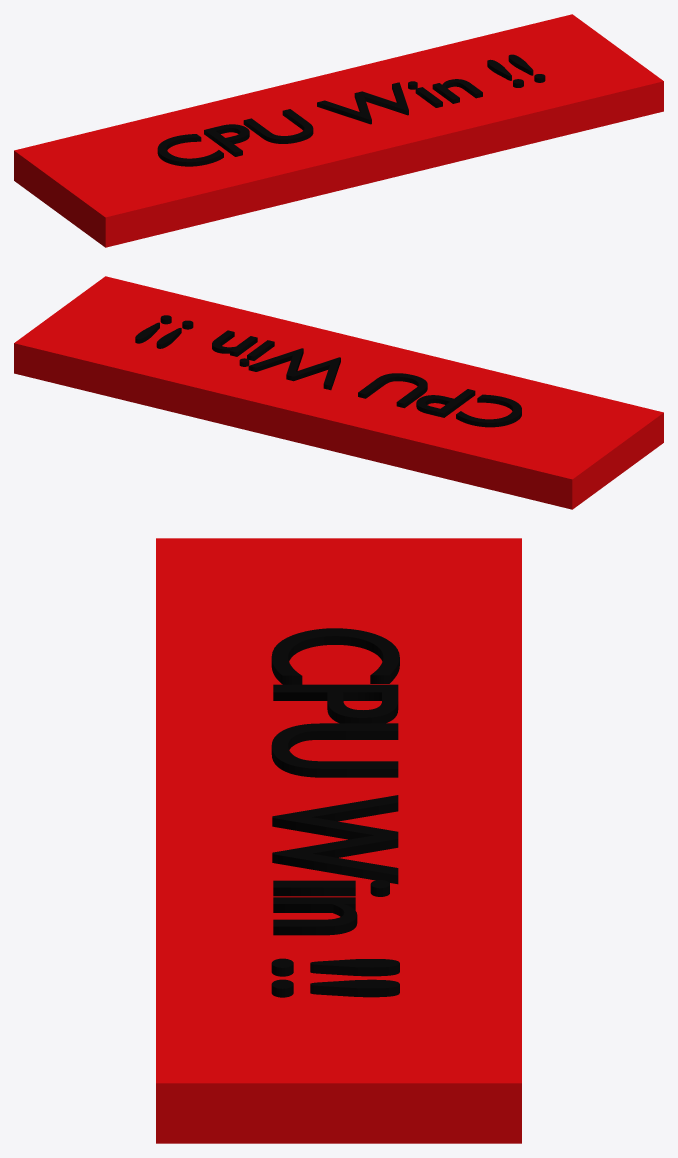
File: CPUWonText.glb
The picture shows the model from 3 angles, top to bottom: view 1: azimuth 30°, elevation 25°; view 2: azimuth 150°, elevation 25°; view 3: azimuth 270°, elevation 25°; orthographic projection. The views are drawn at different scales.
Parts seen in each view (by area): view 1: Cube, テキスト.001; view 2: Cube, テキスト.001; view 3: Cube, テキスト.001.
Boxes of the visible parts, bbox=[...] form: Cube: bbox=[14, 14, 663, 247]; テキスト.001: bbox=[157, 54, 545, 166]; Cube: bbox=[14, 276, 663, 509]; テキスト.001: bbox=[135, 315, 521, 427]; Cube: bbox=[156, 538, 521, 1143]; テキスト.001: bbox=[271, 628, 399, 997].
Bounding box in the file's own units: 7.05 × 0.4181 × 2.
